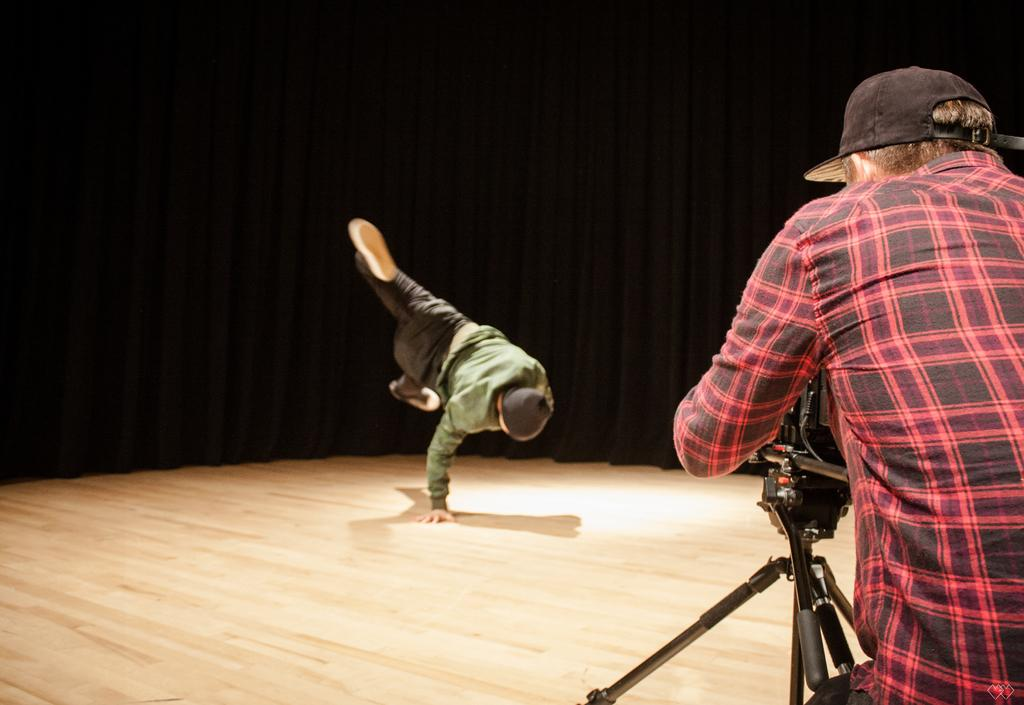Hat: (802, 64, 1023, 184)
